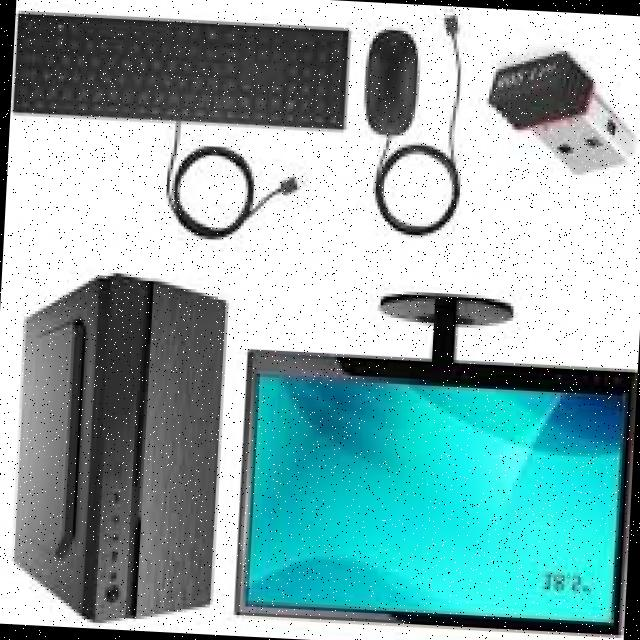Computer: (0, 264, 233, 615)
Monitor: (225, 313, 640, 640)
